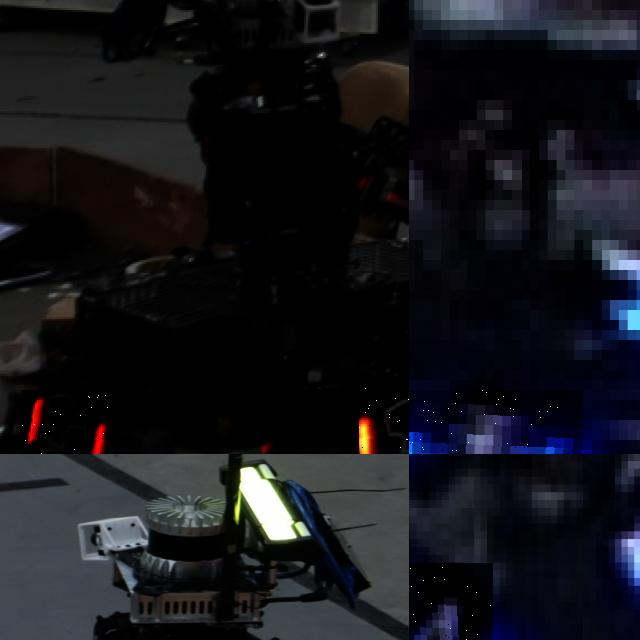B4: (409, 390, 583, 454), (409, 562, 493, 640)
Rs: (21, 390, 108, 454), (359, 387, 409, 454)
